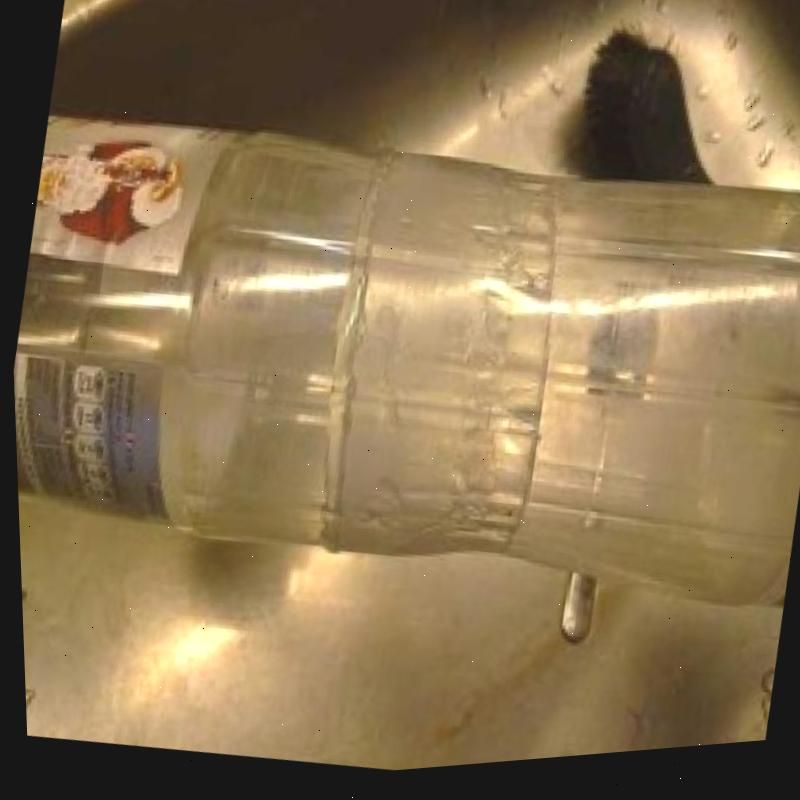botella: (3, 65, 800, 668)
